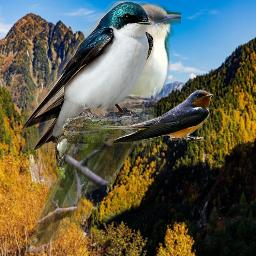Cuckoo: (25, 0, 181, 252), (55, 134, 70, 179)
Swallow: (22, 1, 154, 150), (87, 89, 213, 143)
